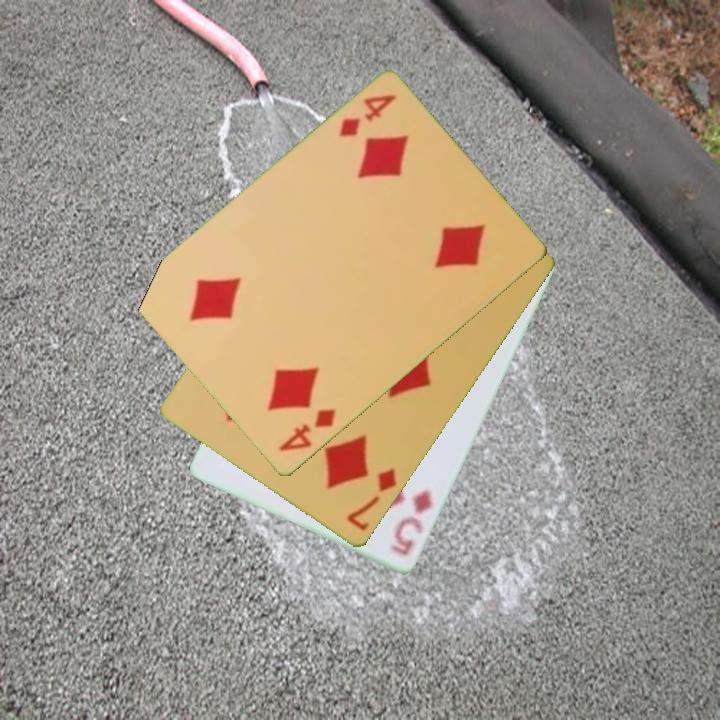4d: (335, 91, 400, 141), (275, 405, 339, 455)
5d: (386, 486, 436, 560)
7d: (343, 465, 400, 535)
